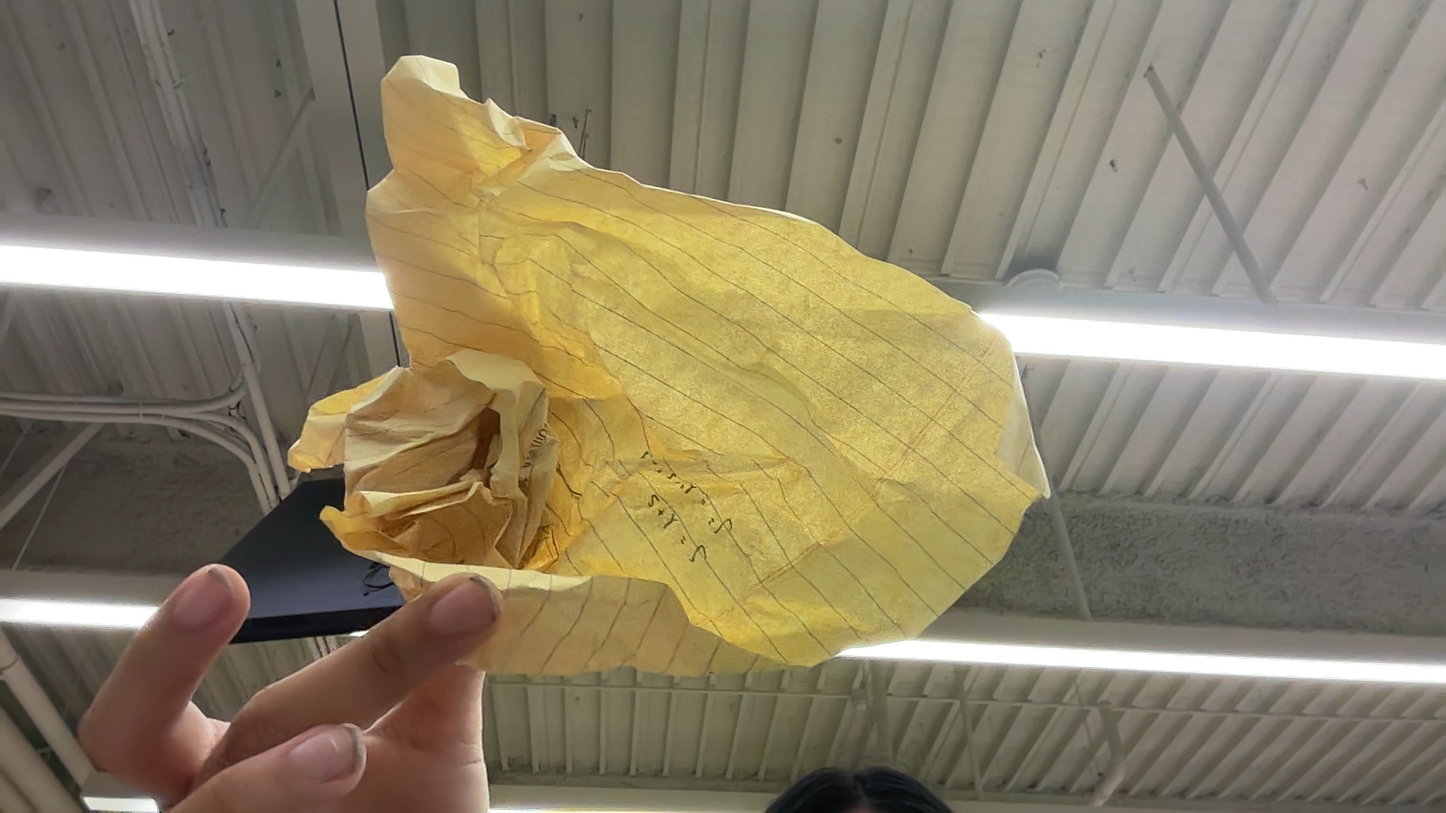Paper: (357, 25, 1070, 661)
